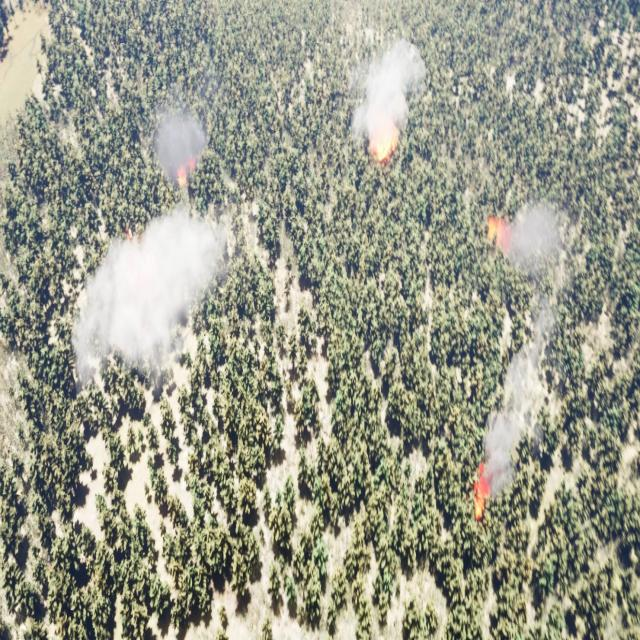fire: (471, 464, 491, 524), (486, 214, 510, 253), (374, 133, 397, 157)
smoke: (72, 208, 235, 387), (484, 297, 555, 507), (352, 39, 424, 159), (149, 111, 208, 188), (497, 198, 562, 260)
